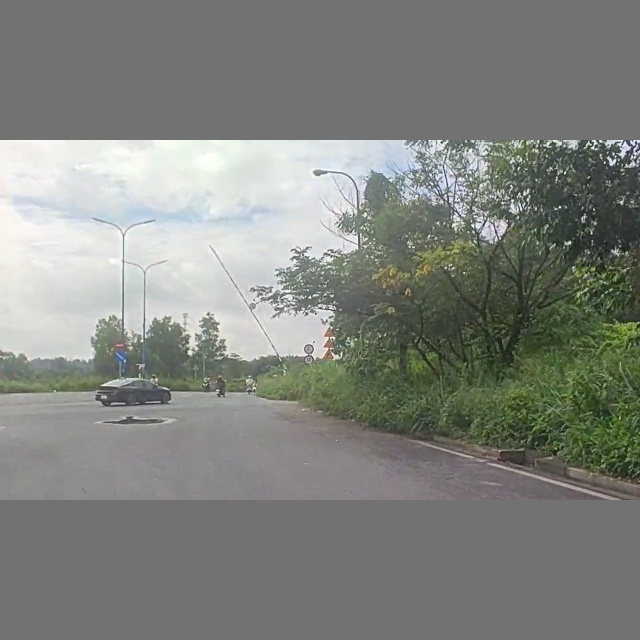P.102: (115, 339, 127, 351)
P.127*40: (303, 354, 315, 365)
R.302a: (114, 351, 127, 363)
W.201b: (321, 348, 337, 360)
